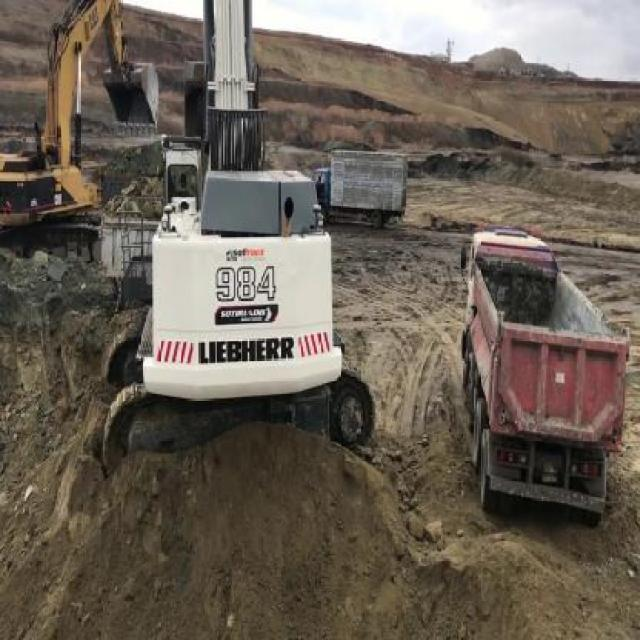Dump Truck: (458, 221, 630, 527), (314, 145, 408, 227)
Excavator: (100, 0, 377, 474), (0, 0, 158, 261)
